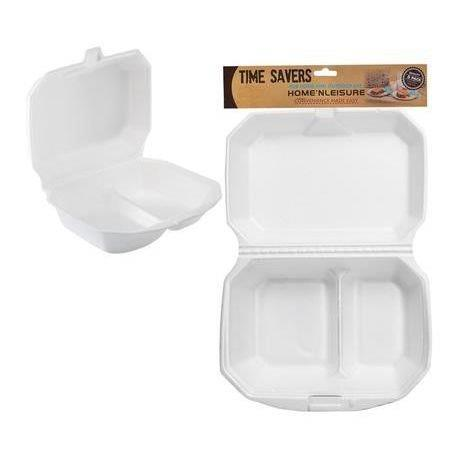sterofoam: (227, 112, 430, 407), (33, 49, 221, 250)
